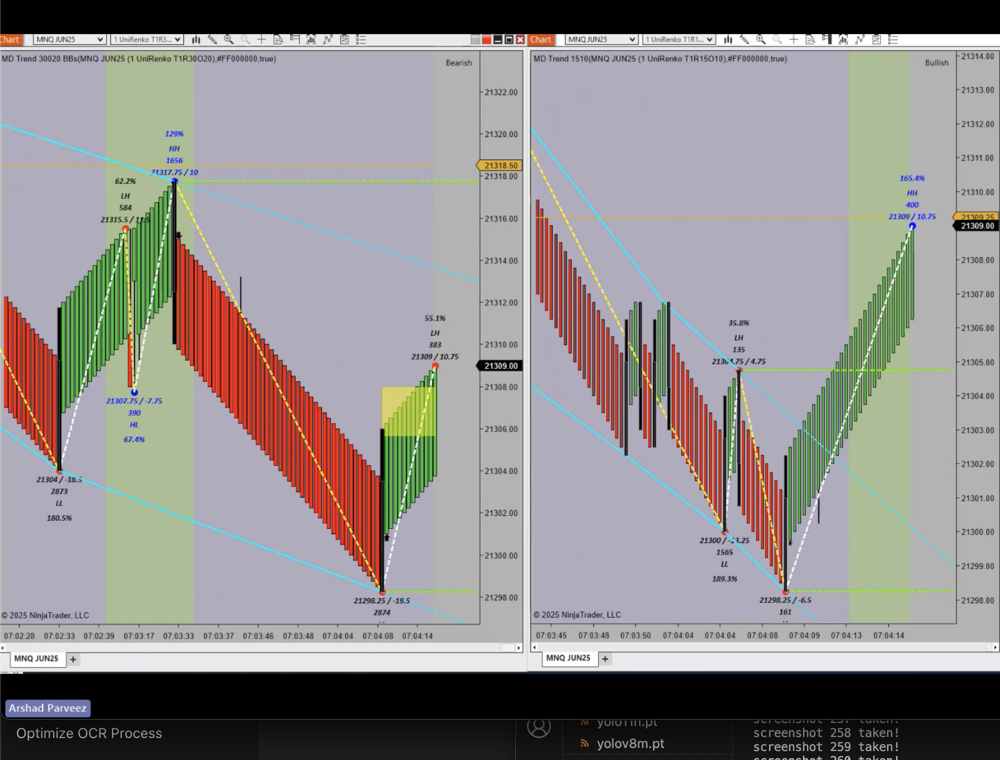HH: (162, 138, 188, 158), (901, 184, 923, 202)
HL: (121, 417, 150, 435)
LH: (116, 189, 139, 206), (729, 329, 753, 345), (429, 325, 449, 339)
LL: (714, 553, 736, 577), (49, 493, 69, 511)
